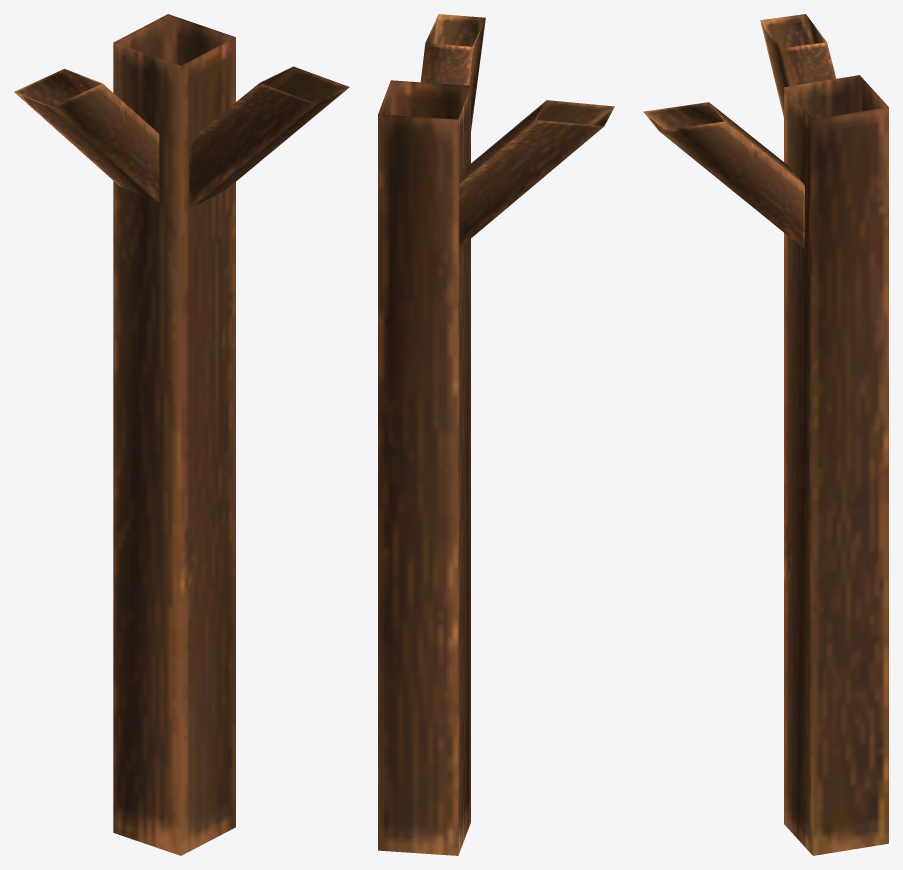
The model's file is SWORDLIGHT20_JAILPLATSUPPORT75.fbx.
The picture shows the model from 3 angles, left to right: view 1: azimuth 30°, elevation 25°; view 2: azimuth 150°, elevation 25°; view 3: azimuth 270°, elevation 25°; orthographic projection. The views are drawn at different scales.
Parts seen in each view (by area): view 1: SWORDLIGHT20_JAILPLATSUPPORT75; view 2: SWORDLIGHT20_JAILPLATSUPPORT75; view 3: SWORDLIGHT20_JAILPLATSUPPORT75.
Boxes of the visible parts, x1,y1,x2,y2 form: SWORDLIGHT20_JAILPLATSUPPORT75: (14, 14, 349, 855); SWORDLIGHT20_JAILPLATSUPPORT75: (378, 14, 614, 855); SWORDLIGHT20_JAILPLATSUPPORT75: (643, 14, 888, 855).
Bounding box in the file's own units: 13612 × 40148 × 12096.
1 material, 1 textured.
